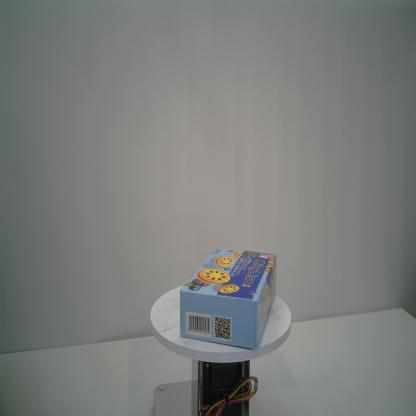Dessert: (179, 246, 278, 351)
